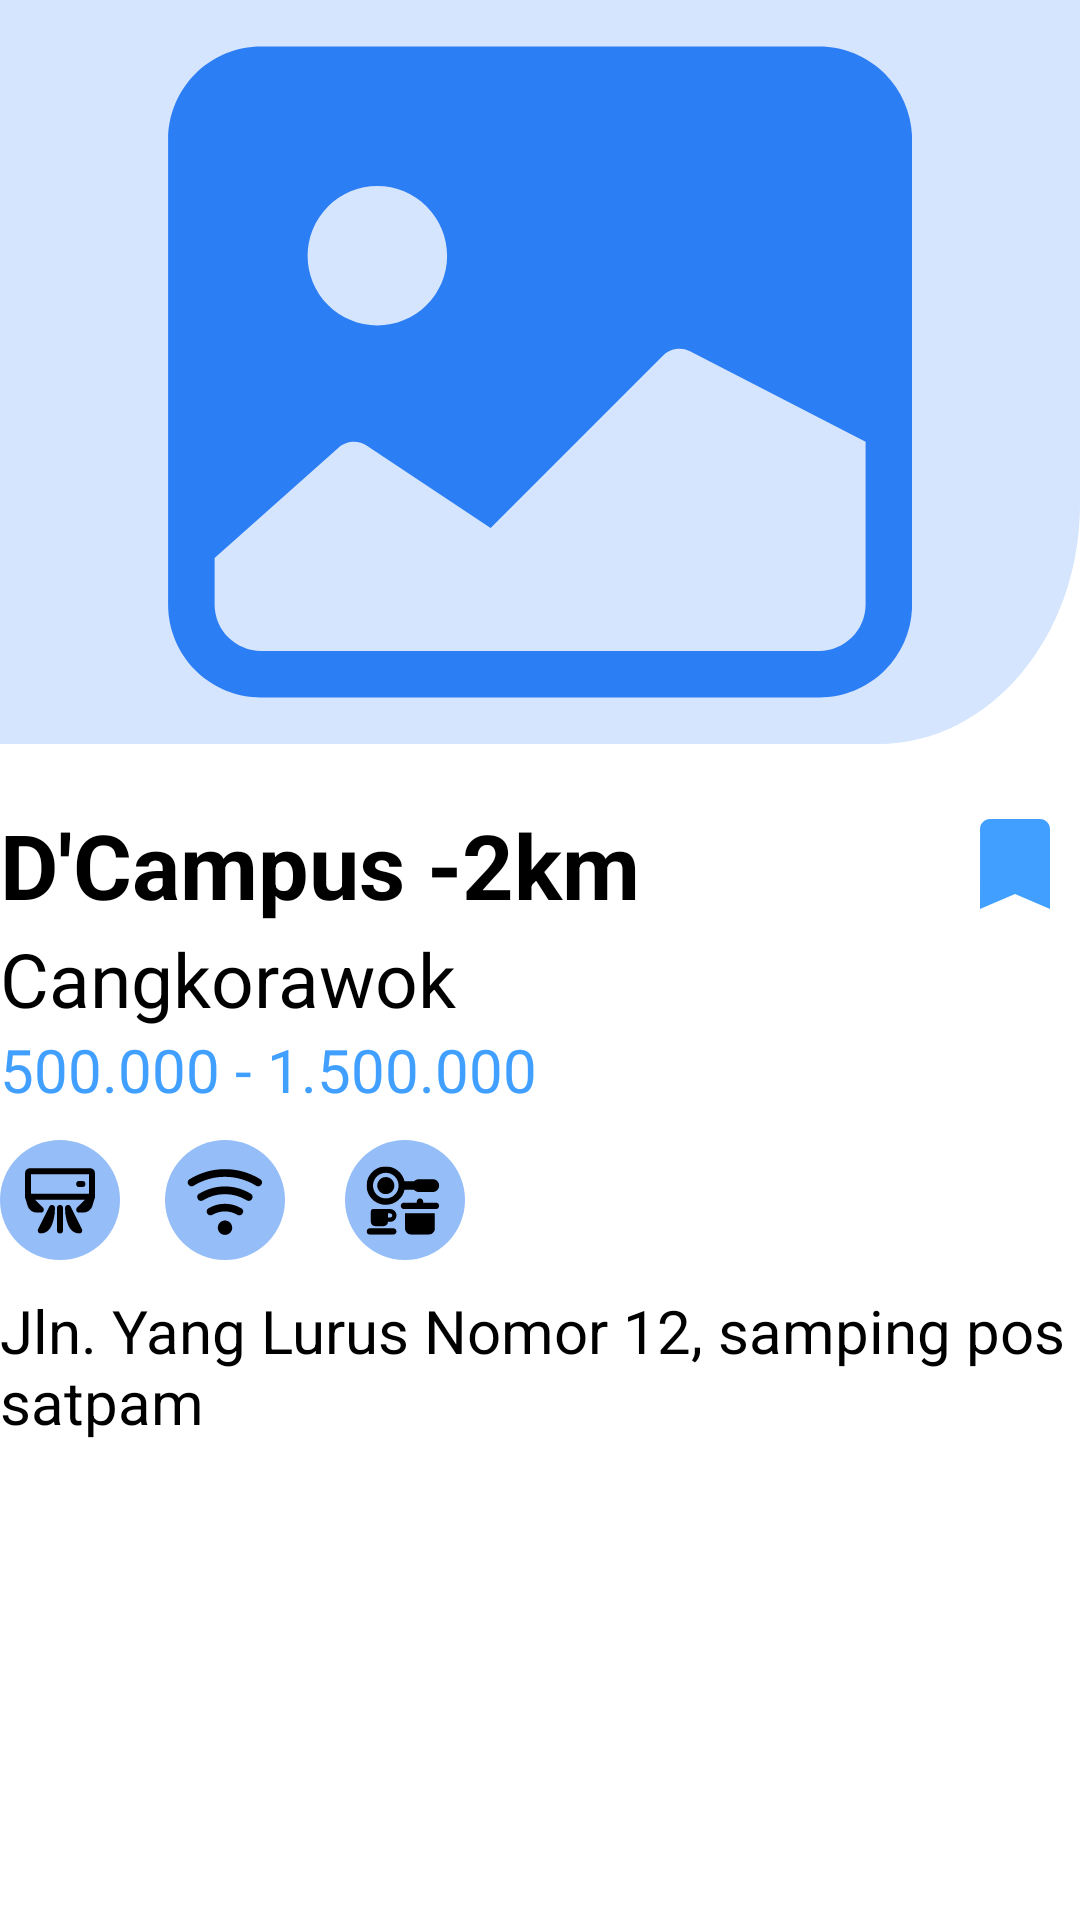

Named icons in this screenshot (1080 x 1920) and their centers, [x,y]:
bookmark: [1015,864]
dapur: [405,1200]
wifi: [225,1200]
